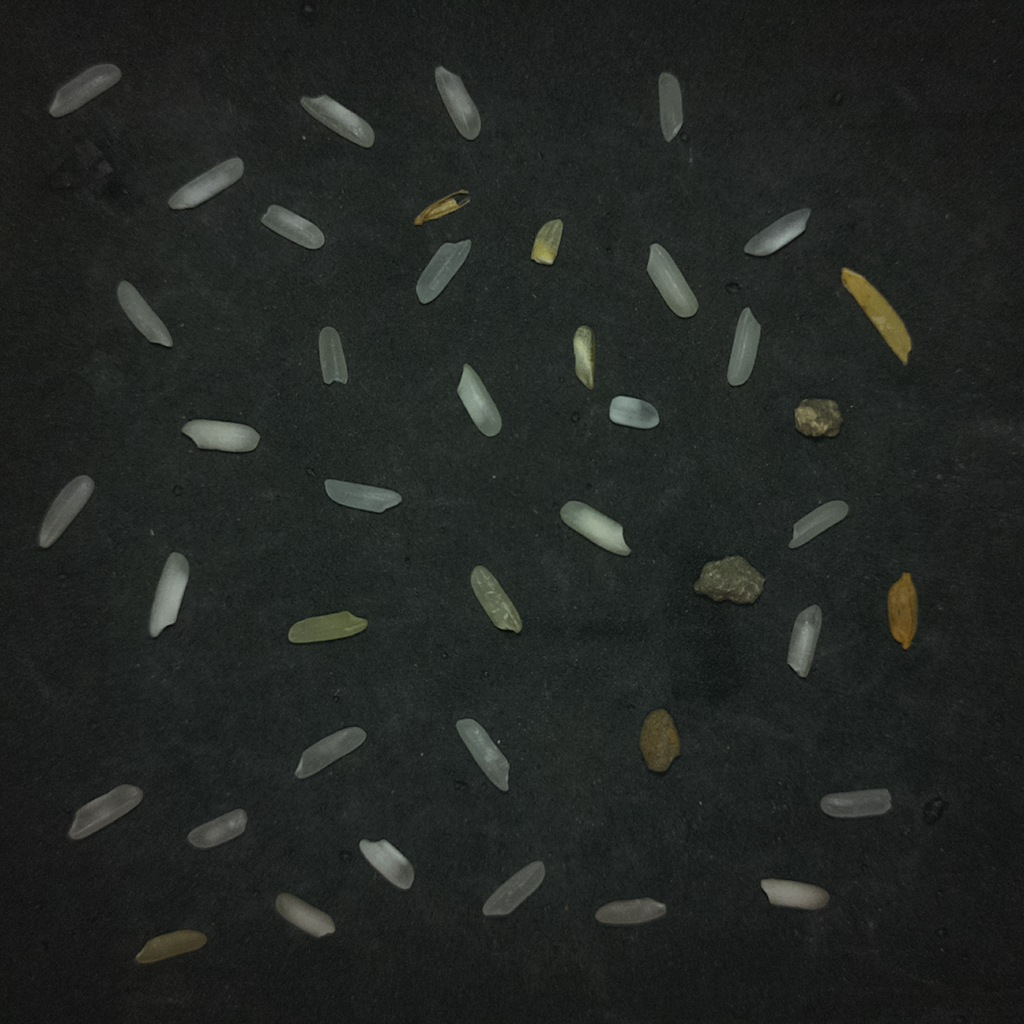broken: (416, 239, 470, 303), (789, 500, 849, 549), (261, 204, 324, 249), (275, 892, 334, 937), (187, 808, 248, 849), (787, 604, 821, 677), (318, 326, 348, 384)
chalky: (560, 500, 630, 555), (148, 552, 188, 637), (457, 364, 501, 436), (359, 839, 414, 889), (181, 419, 259, 452), (761, 878, 829, 910), (609, 395, 659, 429)
damaged: (573, 325, 595, 389)
discolored: (470, 565, 522, 633), (135, 929, 206, 963), (531, 219, 564, 265)
foreign: (694, 556, 763, 603), (640, 708, 680, 772), (794, 399, 841, 437)
paddy: (841, 268, 911, 364), (888, 572, 917, 649), (413, 189, 469, 225)
whole: (67, 784, 142, 839), (38, 475, 94, 548), (168, 157, 243, 209), (49, 63, 121, 117), (456, 718, 508, 791), (300, 96, 374, 147), (647, 243, 697, 317), (117, 280, 172, 346), (295, 728, 365, 778), (482, 860, 544, 916), (435, 66, 480, 140), (744, 208, 810, 256), (727, 307, 761, 386), (288, 611, 367, 643), (325, 479, 401, 512), (819, 788, 891, 818), (595, 897, 666, 925), (658, 72, 683, 141)
